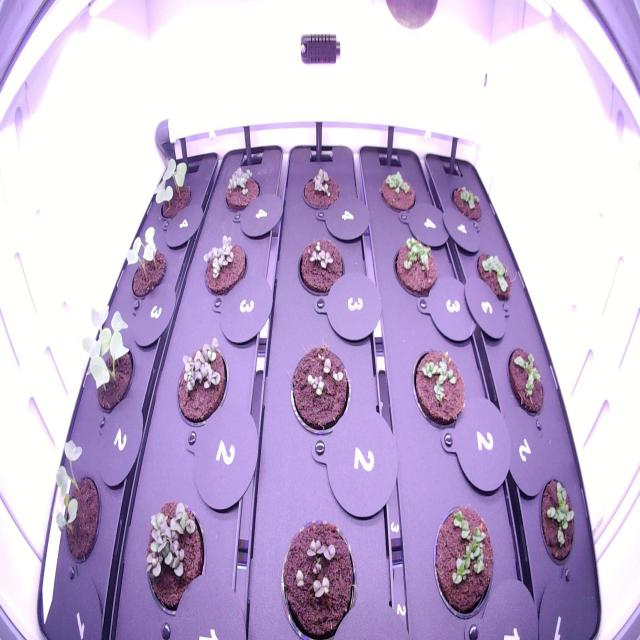germination: (272, 504, 360, 636), (137, 494, 215, 624), (424, 492, 498, 625), (285, 332, 356, 452), (44, 437, 106, 569), (76, 301, 139, 424), (168, 330, 230, 430), (407, 340, 470, 434), (533, 474, 580, 578), (123, 221, 173, 312), (290, 232, 348, 306), (199, 227, 250, 300), (504, 342, 548, 426), (388, 232, 440, 302), (150, 152, 198, 226), (470, 247, 514, 310), (296, 164, 343, 218), (375, 165, 420, 221), (220, 162, 264, 217), (446, 179, 486, 229)
